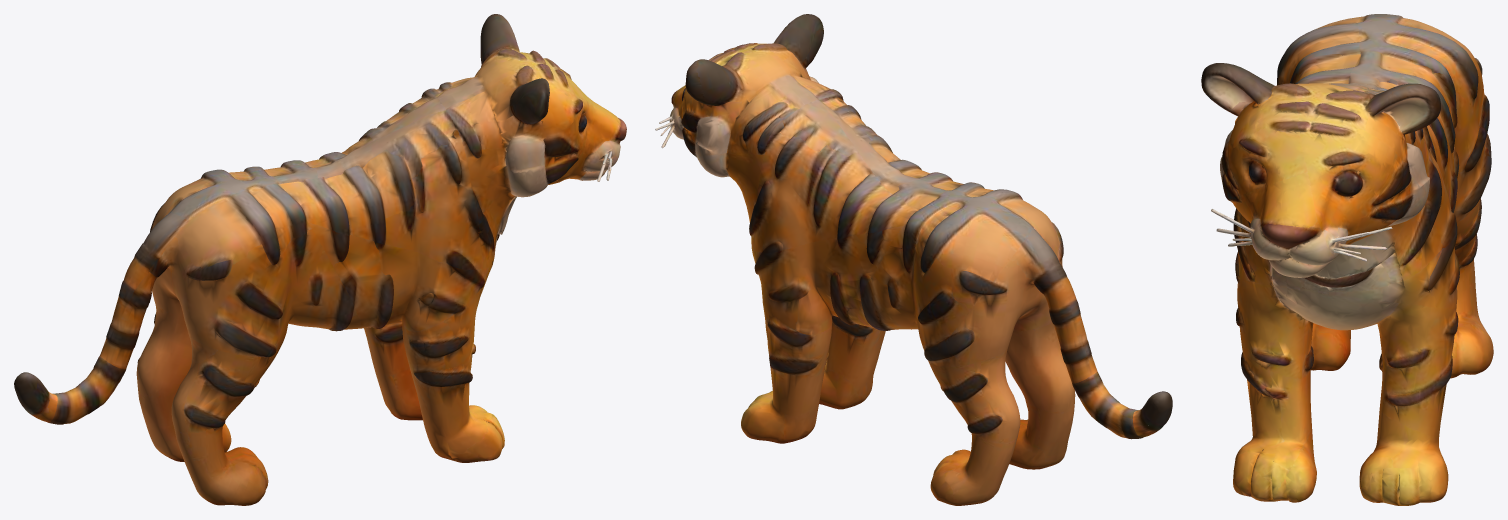
File: tiger.glb
3 views of the same model, side by side, from view 1: azimuth 30°, elevation 25°; view 2: azimuth 150°, elevation 25°; view 3: azimuth 270°, elevation 25° (orthographic). The views are drawn at different scales.
Visible parts, largest first — view 1: tripo_node_8dc3ace6-3377-4046-bbc3-e75f4a2d2ff0; view 2: tripo_node_8dc3ace6-3377-4046-bbc3-e75f4a2d2ff0; view 3: tripo_node_8dc3ace6-3377-4046-bbc3-e75f4a2d2ff0.
Boxes of the visible parts, box(x1,y1,x2,y2) form: tripo_node_8dc3ace6-3377-4046-bbc3-e75f4a2d2ff0: box(14, 14, 626, 505); tripo_node_8dc3ace6-3377-4046-bbc3-e75f4a2d2ff0: box(655, 14, 1172, 505); tripo_node_8dc3ace6-3377-4046-bbc3-e75f4a2d2ff0: box(1201, 14, 1493, 505).
Bounding box in the file's own units: 0.9798 × 0.6189 × 0.3595.
1 material, 1 textured.
